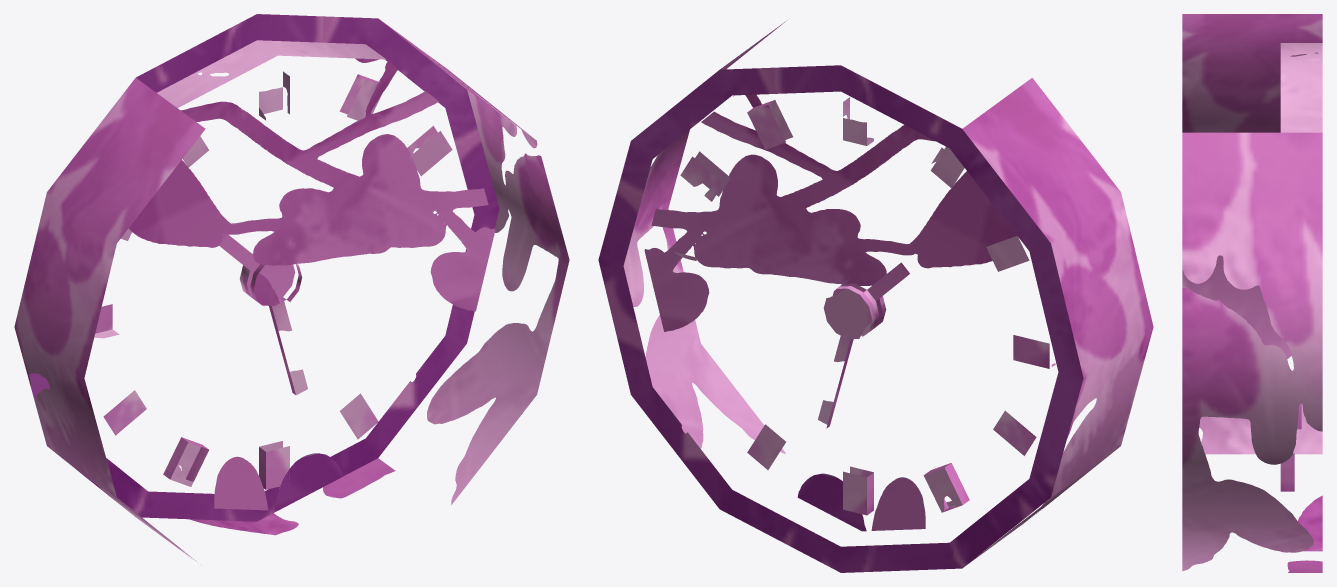
The model's file is Clock.fbx.
3 renders of one model, left to right at view 1: azimuth 30°, elevation 25°; view 2: azimuth 150°, elevation 25°; view 3: azimuth 270°, elevation 25°, orthographic.
Visible parts, largest first — view 1: G5_clock; view 2: G5_clock; view 3: G5_clock.
Part boxes in pixels (x1,y1,x2,y2): G5_clock: (14, 14, 569, 564); G5_clock: (598, 21, 1153, 572); G5_clock: (1182, 14, 1322, 572).
Size of the model in its own units: 12.41 by 12.41 by 3.1.
1 material, 1 textured.
